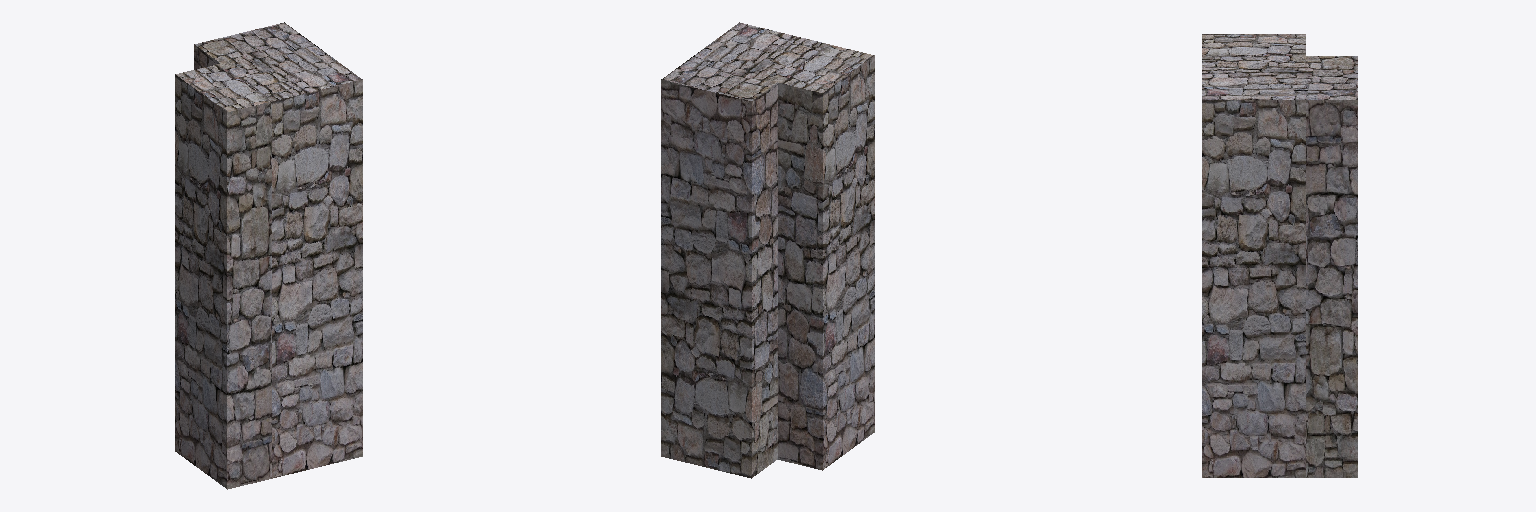
3 views of the same model, side by side, from view 1: azimuth 30°, elevation 25°; view 2: azimuth 150°, elevation 25°; view 3: azimuth 270°, elevation 25° (orthographic).
Size of the model in its own units: 0.75 by 2 by 0.75.
1 materials, 1 textured.